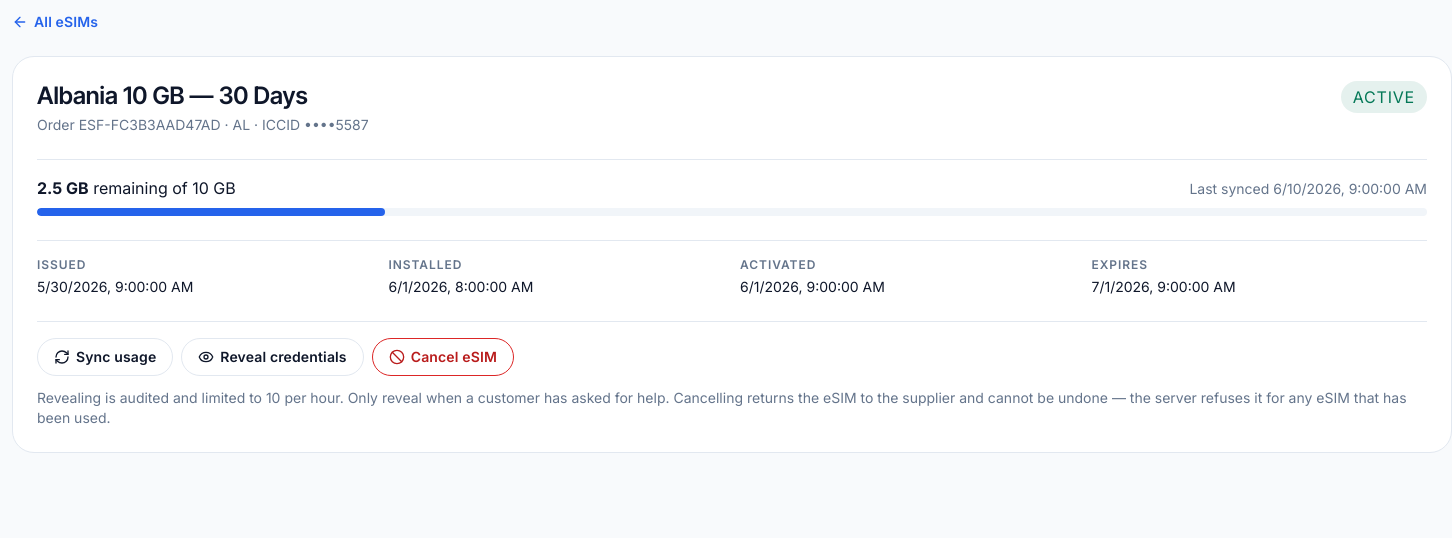
it: sync › reports a failed sync instead of leaving stale figures unexplained
Expected: the 3rd text "2.5 GB" is shown, [37, 178, 89, 198]
Click the 1st button named "sync usage" at (105, 357), box [37, 338, 173, 376]
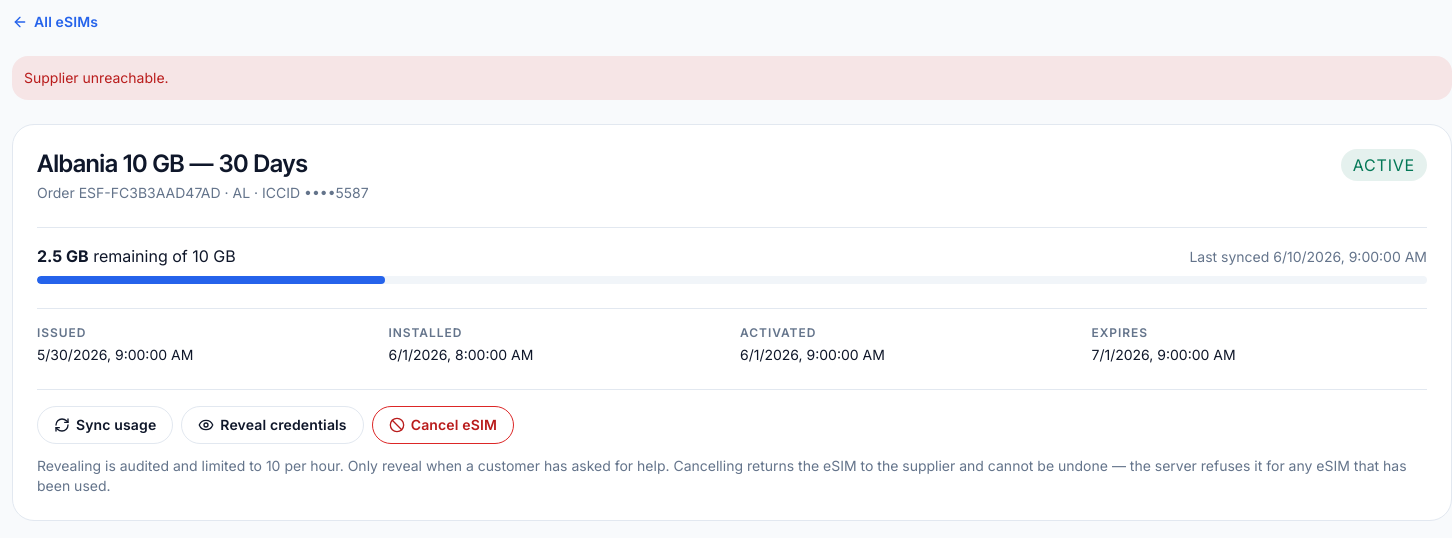
Expected: the text "Supplier unreachable." is shown, [24, 69, 169, 86]
